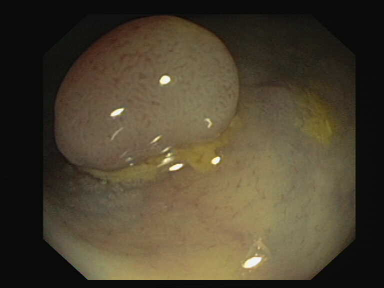polyp: (43, 10, 264, 178)
